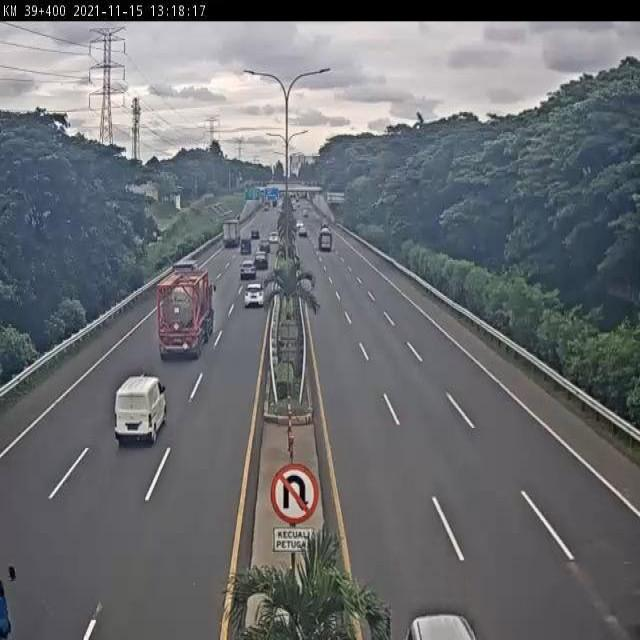bus-s-: (113, 375, 169, 444)
car: (245, 281, 267, 307)
truck-xl-: (158, 268, 215, 359)
